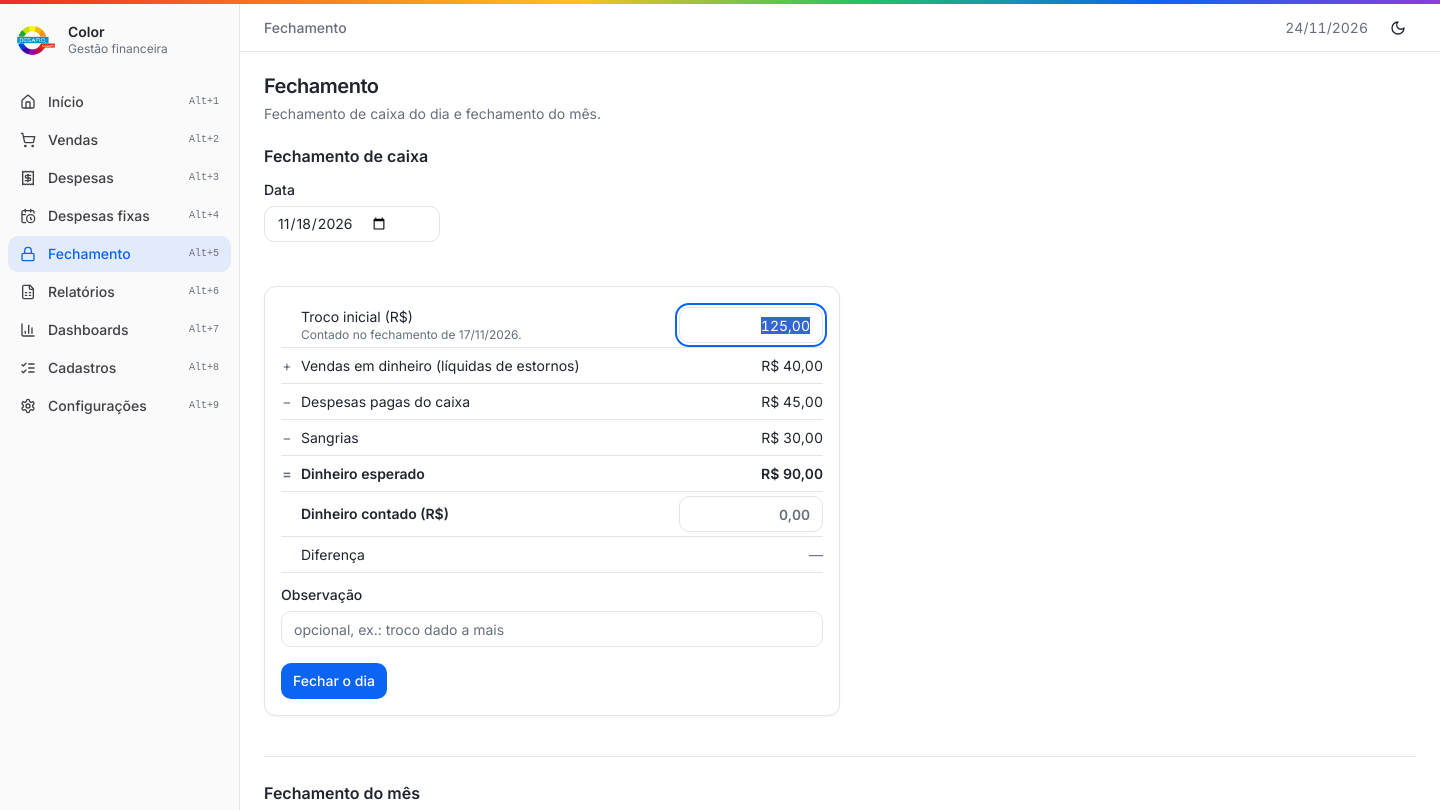
it: FR-08: close the day (Fechamento page) › FR-08: with no difference, Enter closes the day at once
Expected: the form named "Fechar o dia" is shown, [281, 303, 823, 699]
Type "90,00" into the field labelled "Dinheiro contado (R$)" at [751, 514], box [679, 496, 823, 532]
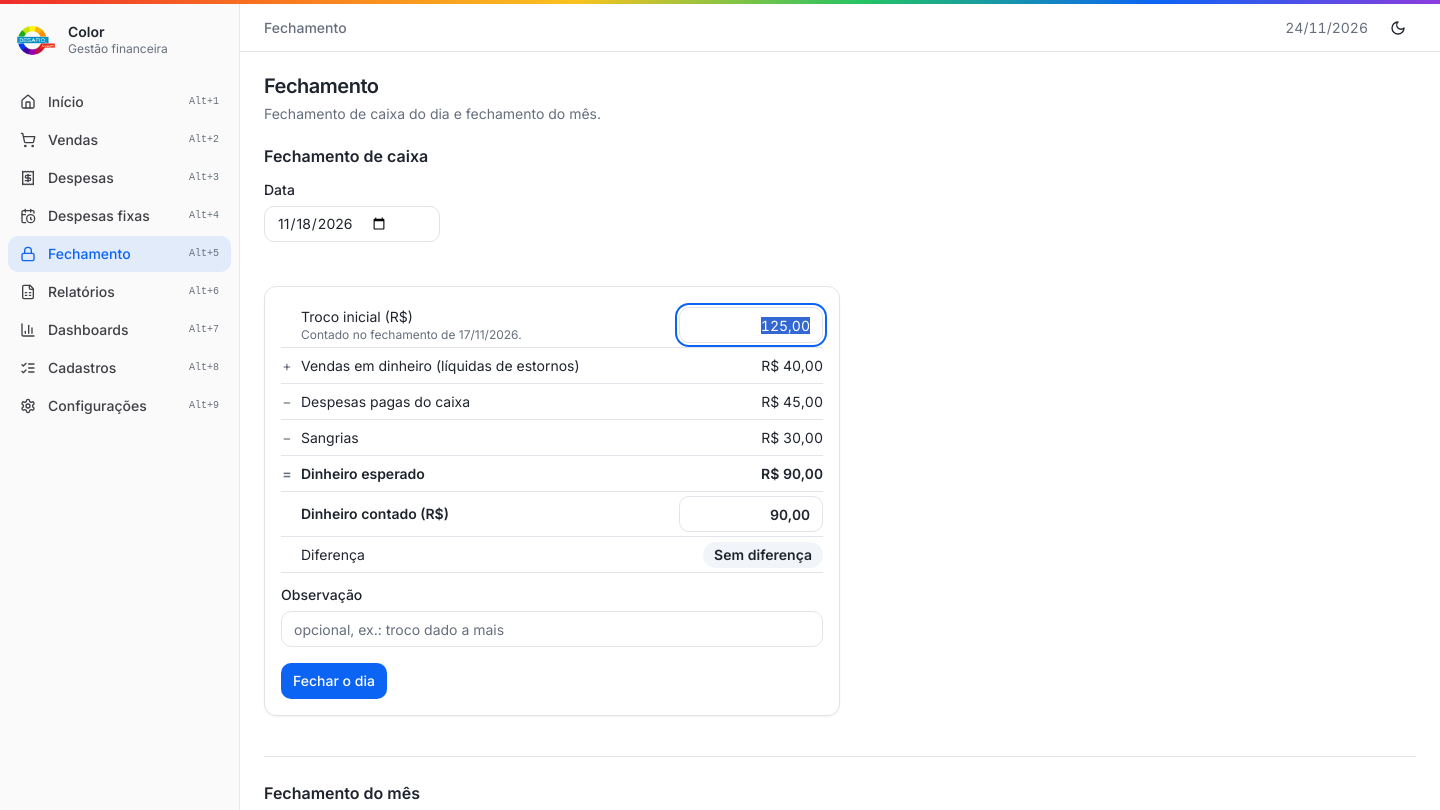
Now the element with test id "difference" reads "Sem diferença", box [714, 546, 812, 562]
Submit the form named "Fechar o dia", box [281, 303, 823, 699]
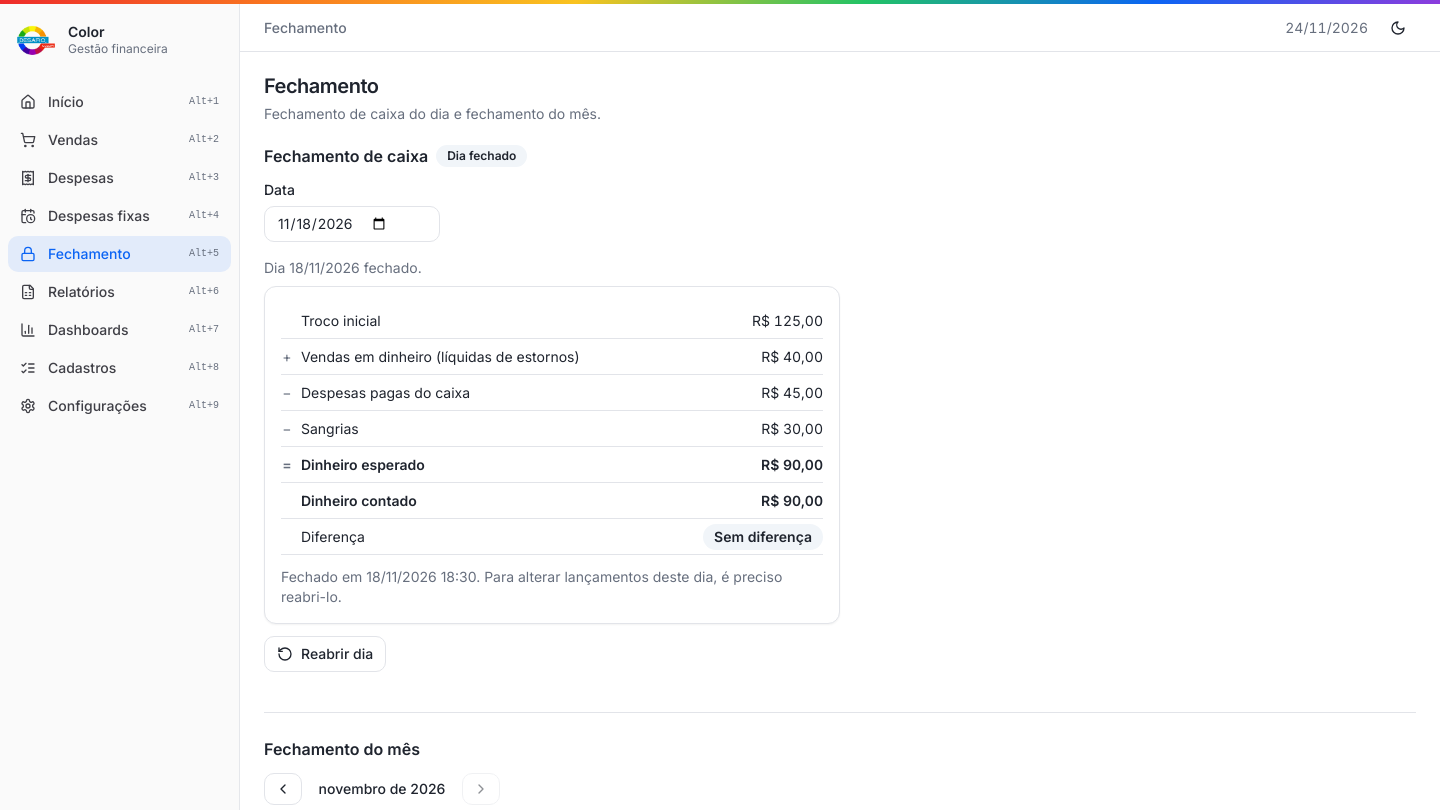
Now the message reads "Dia 18/11/2026 fechado.", box [264, 259, 422, 276]
Now the text "Dia fechado" is shown, box [436, 145, 527, 167]
